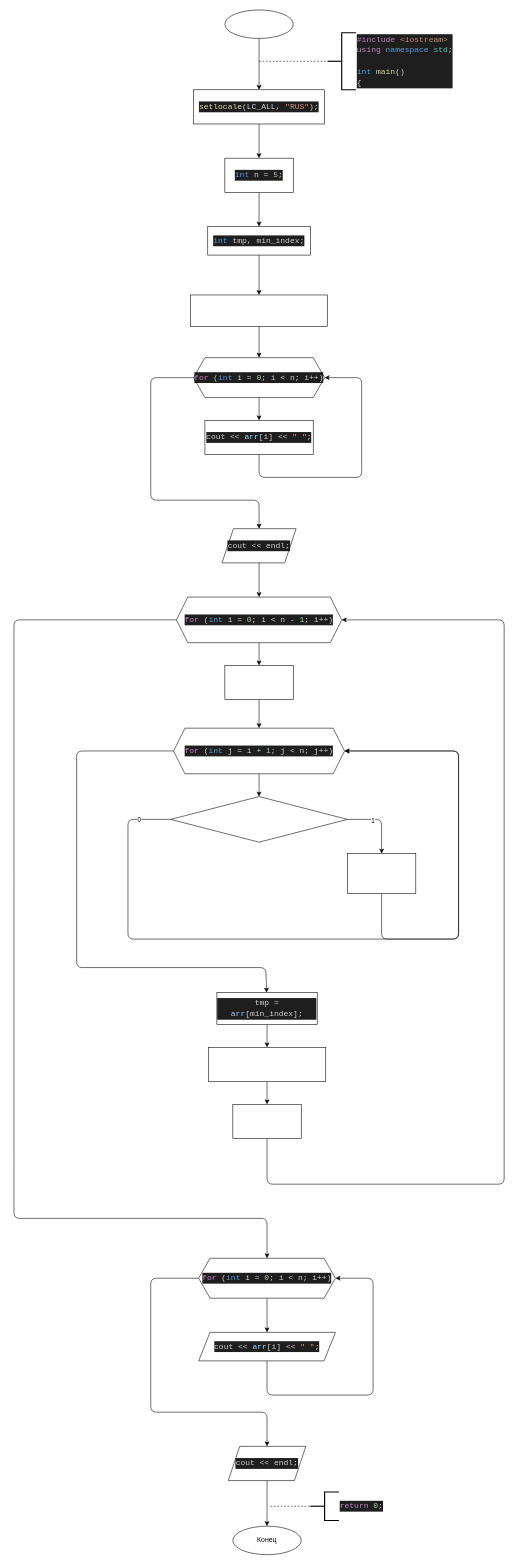
Image size: 519x1565. Some labels were removed from this diagram. The shapes that lost their labels are listed below. From the top down, each one's centre as x and y in pixels, then its label:
At pixel 258 23: "Начало".
At pixel 258 310: "int arr [ 5 ] = { 5 , 2 , 0 , 4 , 3 };".
At pixel 258 682: "min_index = i;".
At pixel 258 819: "if ( arr [j] < arr [min_index])".
At pixel 381 873: "min_index = j;".
At pixel 267 1064: "arr [min_index] = arr [i];".
At pixel 266 1121: "arr [i] = tmp;".
